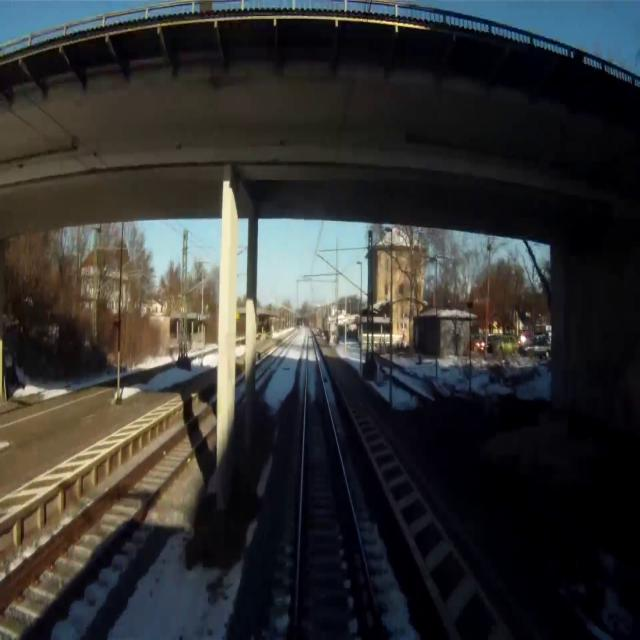rail-track: (0, 404, 216, 639), (298, 334, 379, 639), (254, 346, 283, 378), (234, 379, 245, 401)
